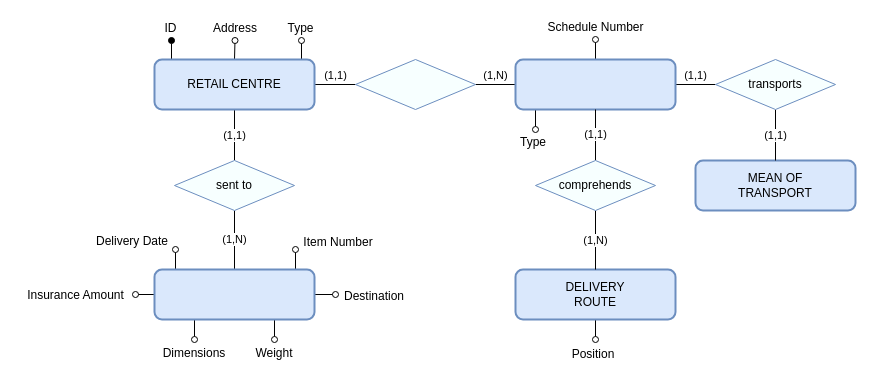
This 873x381 diagram has some shape labels left out. The shapes that lost their labels are listed below. From the top down, each one's box as (x1, y1, x2, y2) in pixels, then its label:
(354, 58, 476, 110): organizes
(514, 58, 676, 110): TRANSPORTATION EVENT
(153, 268, 315, 320): ITEM
